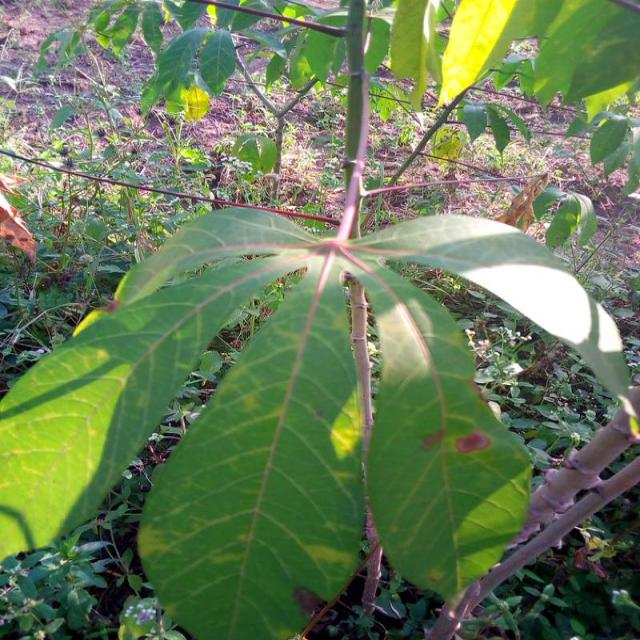cassava leaf: (1, 202, 635, 634), (0, 203, 322, 566), (135, 249, 370, 638), (362, 258, 534, 608)
